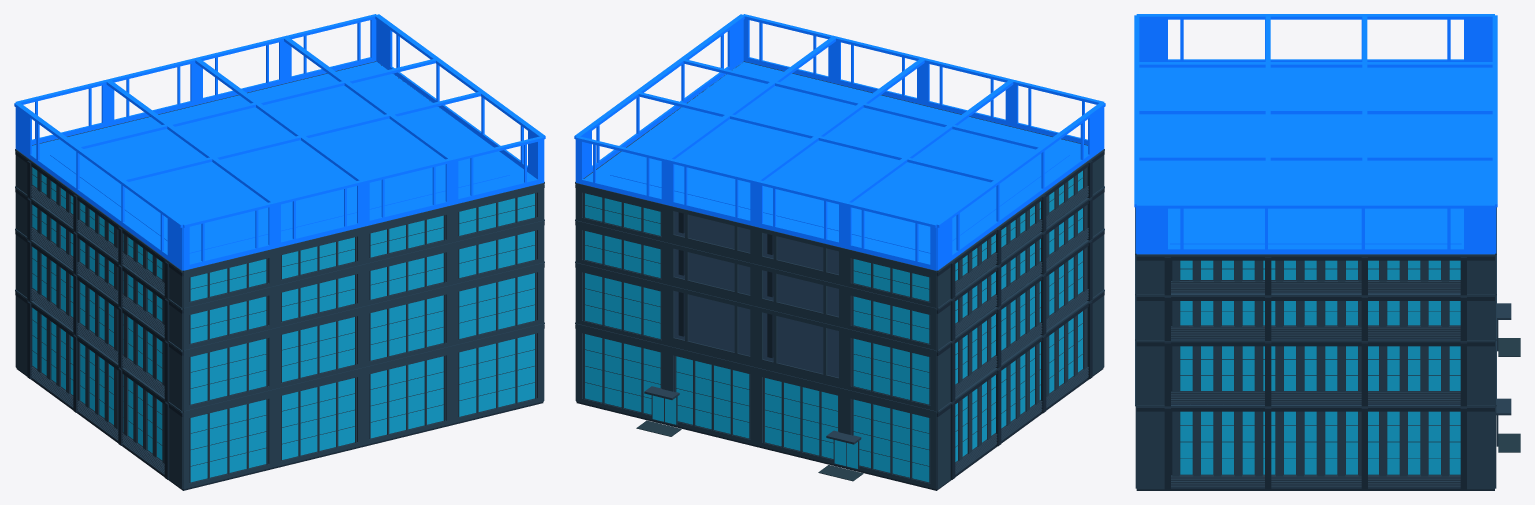
The picture shows the model from 3 angles, left to right: view 1: azimuth 30°, elevation 25°; view 2: azimuth 150°, elevation 25°; view 3: azimuth 270°, elevation 25°; orthographic projection. The views are drawn at different scales.
Parts seen in each view (by area): view 1: Campus_C2_RoofGarden_Garden, Campus_C2_F01_Glazing_Glass, Campus_C2_F02_Glazing_Glass, Campus_C2_F01_Envelope_White, Campus_C2_RF_Structure_White, Campus_C2_RF_Envelope_White, Campus_C2_F02_Envelope_White, Campus_C2_RF_Structure_Concrete, Campus_C2_F03_Glazing_Glass, Campus_C2_F04_Glazing_Glass, Campus_C2_F03_Envelope_White, Campus_C2_F04_Envelope_White (+17 smaller); view 2: Campus_C2_RoofGarden_Garden, Campus_C2_F01_Glazing_Glass, Campus_C2_RF_Structure_White, Campus_C2_F01_Envelope_White, Campus_C2_RF_Envelope_White, Campus_C2_F02_Envelope_White, Campus_C2_RF_Structure_Concrete, Campus_C2_F02_Glazing_Glass, Campus_C2_F02_Structure_Concrete, Campus_C2_F03_Envelope_White, Campus_C2_F04_Envelope_White, Campus_C2_F03_Glazing_Glass (+20 smaller); view 3: Campus_C2_RoofGarden_Garden, Campus_C2_RF_Structure_White, Campus_C2_F01_Envelope_White, Campus_C2_RF_Structure_Concrete, Campus_C2_F01_Glazing_Glass, Campus_C2_F02_Envelope_White, Campus_C2_RF_Envelope_White, Campus_C2_F02_Glazing_Glass, Campus_C2_F03_Envelope_White, Campus_C2_F04_Envelope_White, Campus_C2_F01_Structure_Concrete, Campus_C2_F03_Glazing_Glass (+19 smaller).
Boxes of the visible parts, bbox=[...] form: Campus_C2_RoofGarden_Garden: bbox=[50, 77, 509, 253]; Campus_C2_F01_Glazing_Glass: bbox=[32, 308, 534, 482]; Campus_C2_F02_Glazing_Glass: bbox=[32, 247, 534, 404]; Campus_C2_F01_Envelope_White: bbox=[15, 289, 544, 489]; Campus_C2_RF_Structure_White: bbox=[14, 14, 545, 227]; Campus_C2_RF_Envelope_White: bbox=[15, 14, 544, 270]; Campus_C2_F02_Envelope_White: bbox=[15, 228, 544, 411]; Campus_C2_RF_Structure_Concrete: bbox=[32, 61, 536, 263]; Campus_C2_F03_Glazing_Glass: bbox=[32, 205, 534, 343]; Campus_C2_F04_Glazing_Glass: bbox=[32, 167, 534, 301]; Campus_C2_F03_Envelope_White: bbox=[15, 186, 544, 350]; Campus_C2_F04_Envelope_White: bbox=[15, 61, 544, 308]; Campus_C2_RoofGarden_Garden: bbox=[610, 78, 1069, 253]; Campus_C2_F01_Glazing_Glass: bbox=[585, 311, 1082, 482]; Campus_C2_RF_Structure_White: bbox=[574, 14, 1105, 227]; Campus_C2_F01_Envelope_White: bbox=[575, 289, 1104, 489]; Campus_C2_RF_Envelope_White: bbox=[575, 14, 1104, 270]; Campus_C2_F02_Envelope_White: bbox=[575, 228, 1104, 411]; Campus_C2_RF_Structure_Concrete: bbox=[584, 61, 1087, 263]; Campus_C2_F02_Glazing_Glass: bbox=[585, 250, 1082, 404]; Campus_C2_F02_Structure_Concrete: bbox=[575, 231, 1104, 401]; Campus_C2_F03_Envelope_White: bbox=[575, 186, 1104, 350]; Campus_C2_F04_Envelope_White: bbox=[575, 61, 1104, 308]; Campus_C2_F03_Glazing_Glass: bbox=[585, 208, 1082, 343]; Campus_C2_RoofGarden_Garden: bbox=[1170, 73, 1461, 244]; Campus_C2_RF_Structure_White: bbox=[1134, 14, 1497, 208]; Campus_C2_F01_Envelope_White: bbox=[1135, 340, 1496, 489]; Campus_C2_RF_Structure_Concrete: bbox=[1139, 67, 1492, 248]; Campus_C2_F01_Glazing_Glass: bbox=[1180, 411, 1460, 474]; Campus_C2_F02_Envelope_White: bbox=[1135, 295, 1496, 405]; Campus_C2_RF_Envelope_White: bbox=[1135, 14, 1496, 254]; Campus_C2_F02_Glazing_Glass: bbox=[1180, 346, 1460, 390]; Campus_C2_F03_Envelope_White: bbox=[1135, 255, 1496, 339]; Campus_C2_F04_Envelope_White: bbox=[1135, 207, 1496, 294]; Campus_C2_F01_Structure_Concrete: bbox=[1136, 407, 1494, 490]; Campus_C2_F03_Glazing_Glass: bbox=[1180, 301, 1460, 325].
Bounding box in the file's own units: 40.76 × 28.42 × 34.72.
